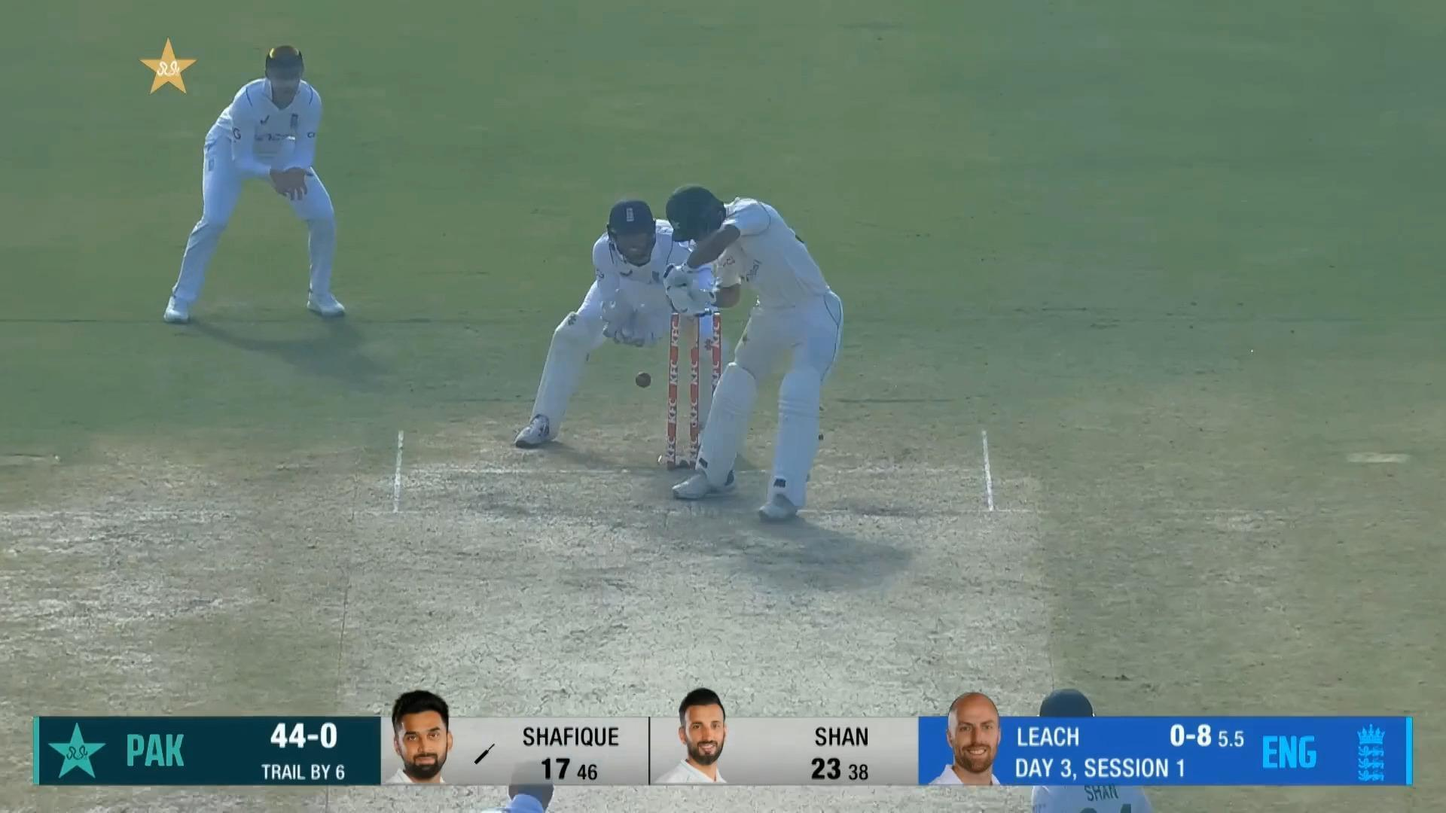BM 1: (661, 181, 847, 525)
BO: (475, 782, 553, 813)
